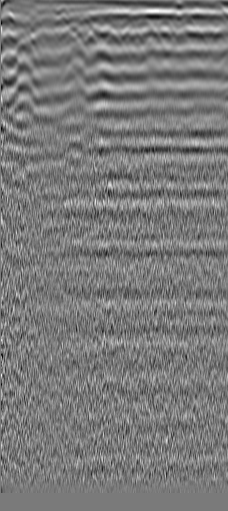가스: (212, 135, 228, 158)
오수: (17, 32, 37, 52)
우수: (156, 24, 176, 44)
